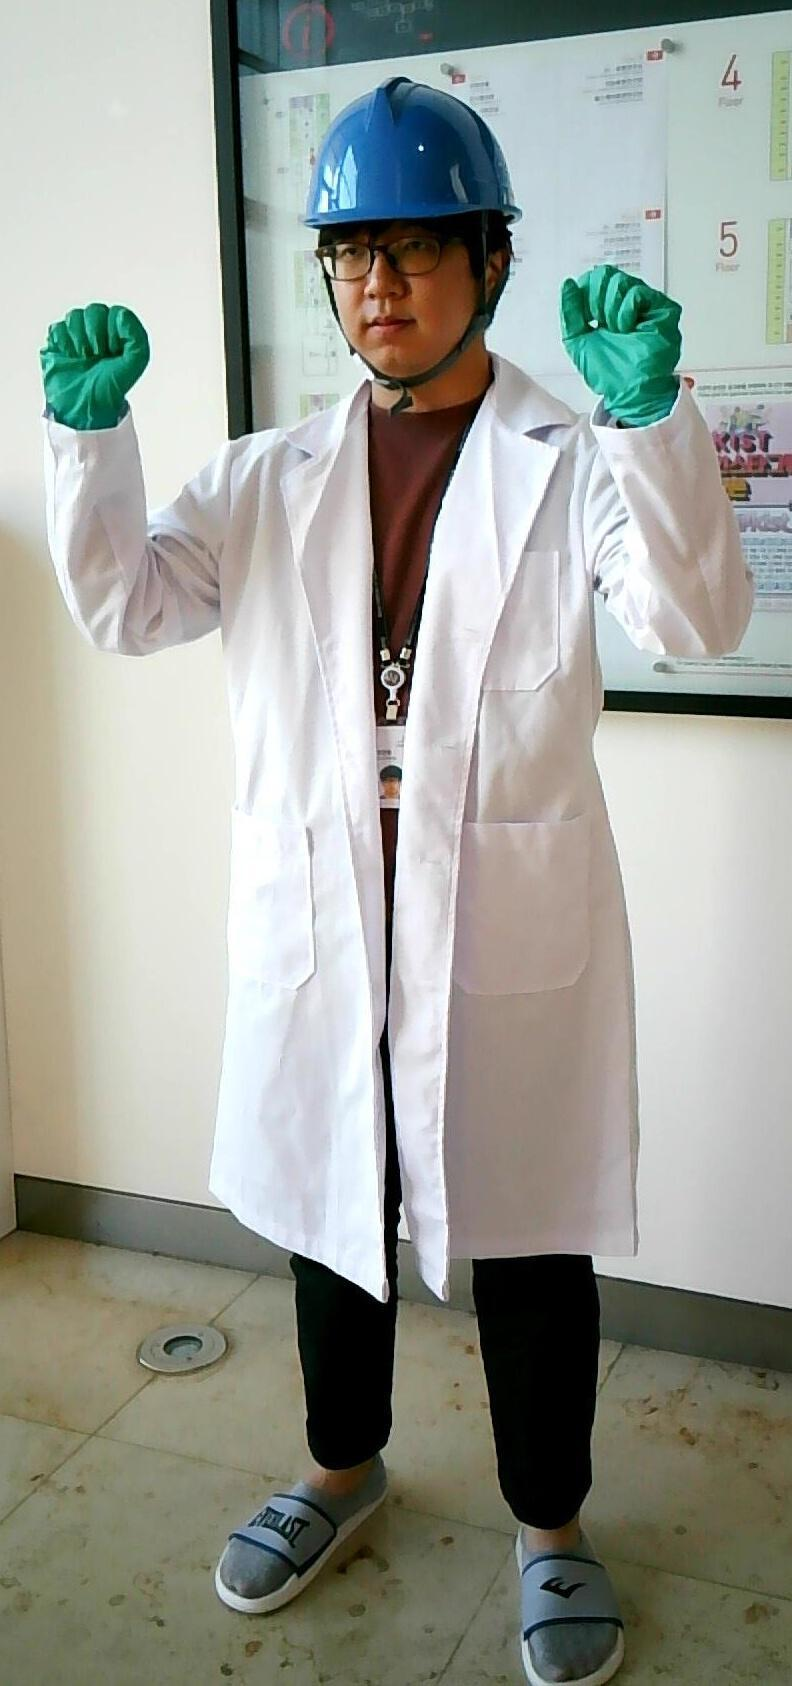lab_coat: (198, 414, 604, 1246)
